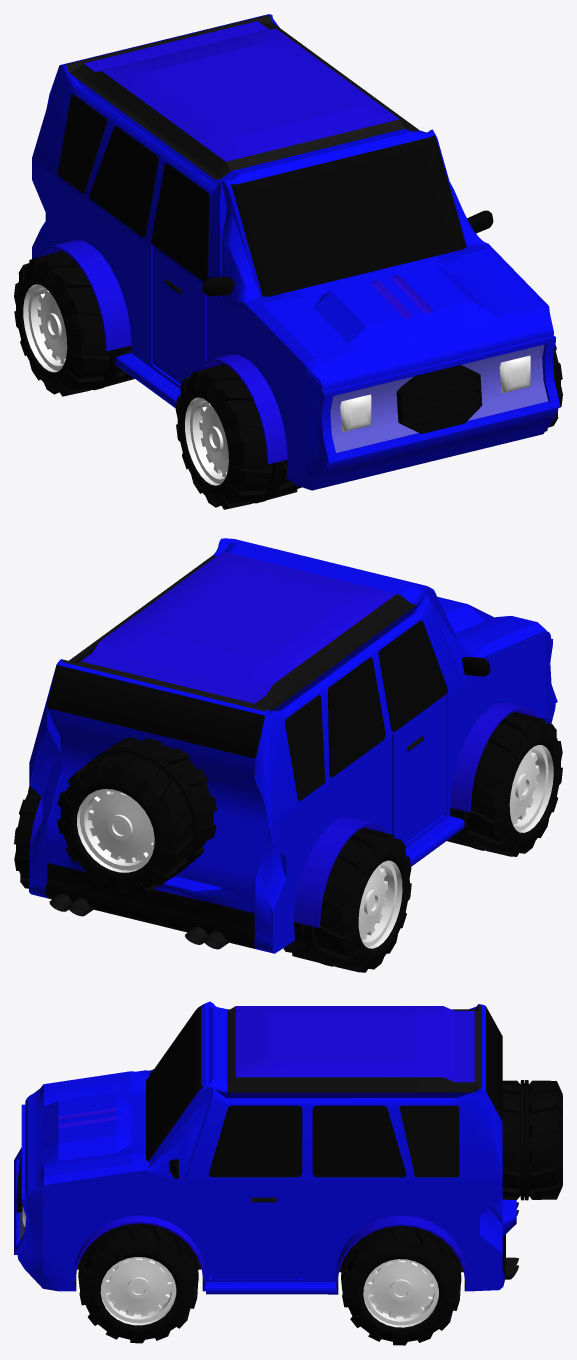
Rendered from Car 3.fbx.
The picture shows the model from 3 angles, top to bottom: view 1: azimuth 30°, elevation 25°; view 2: azimuth 150°, elevation 25°; view 3: azimuth 270°, elevation 25°; orthographic projection. The views are drawn at different scales.
Visible parts, largest first — view 1: Body car 3, Cylinder.007, Cylinder.006, Cube.003, Cube.004, Plat, wadah ban.002, Cube.005, wadah ban.001, Cube.015, Cube.016; view 2: Body car 3, Ban ganti, Cylinder.006, Cylinder.007, Cube.004, Cube.003, wadah ban.002, Cube.005, wadah ban.001, Cylinder.005; view 3: Body car 3, Cylinder, Cylinder.005, Ban ganti, Cube.007, Cube.008, Cube.006, wadah ban.003, wadah ban.
Boxes of the visible parts, x1,y1,x2,y2 form: Body car 3: [32, 14, 560, 490]; Cylinder.007: [175, 364, 301, 509]; Cylinder.006: [14, 251, 134, 396]; Cube.003: [151, 163, 209, 281]; Cube.004: [89, 126, 158, 237]; Plat: [396, 365, 482, 433]; wadah ban.002: [36, 240, 131, 351]; Cube.005: [58, 94, 107, 193]; wadah ban.001: [197, 354, 287, 464]; Cube.015: [340, 394, 371, 431]; Cube.016: [499, 355, 530, 393]; Body car 3: [29, 538, 557, 953]; Ban ganti: [57, 737, 217, 894]; Cylinder.006: [283, 827, 411, 972]; Cylinder.007: [447, 711, 562, 856]; Cube.004: [328, 657, 385, 777]; Cube.003: [378, 620, 447, 731]; wadah ban.002: [294, 816, 388, 927]; Cube.005: [285, 695, 325, 800]; wadah ban.001: [450, 702, 539, 812]; Cylinder.005: [14, 786, 41, 888]; Body car 3: [14, 1001, 516, 1294]; Cylinder: [78, 1223, 198, 1343]; Cylinder.005: [341, 1226, 461, 1345]; Ban ganti: [502, 1080, 562, 1200]; Cube.007: [312, 1105, 406, 1177]; Cube.008: [208, 1105, 302, 1177]; Cube.006: [399, 1105, 459, 1177]; wadah ban.003: [335, 1215, 467, 1283]; wadah ban: [73, 1215, 205, 1281].
Size of the model in its own units: 729 by 593 by 1216.
